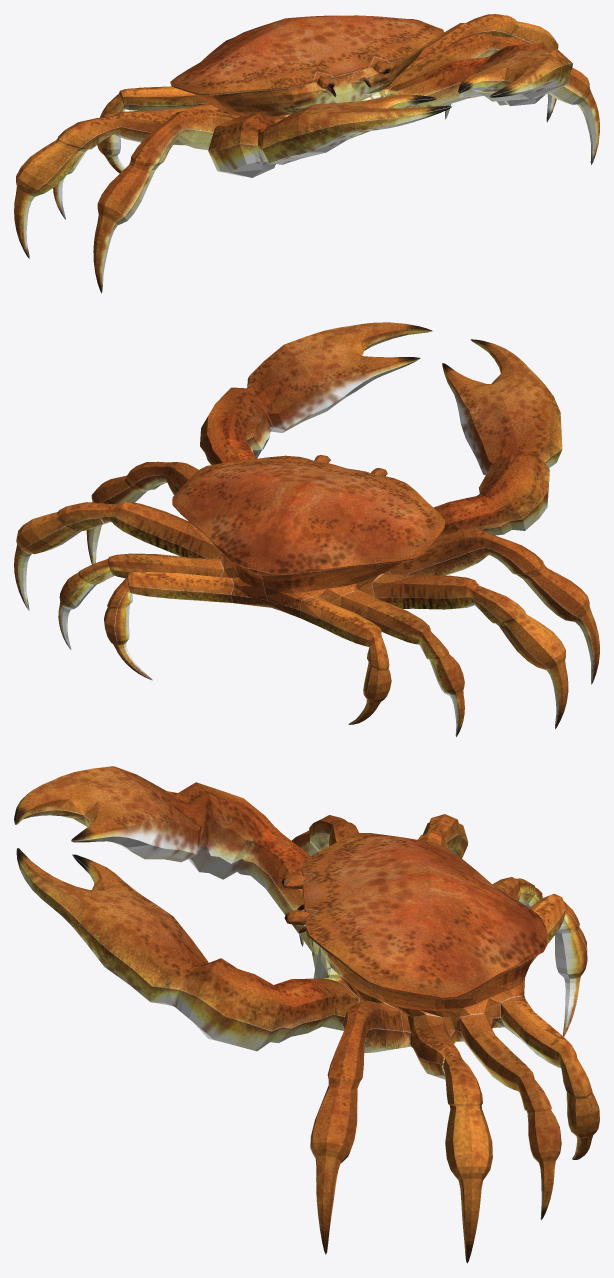
The model's file is Crab.obj.
3 views of the same model, one above another, from view 1: azimuth 30°, elevation 25°; view 2: azimuth 150°, elevation 25°; view 3: azimuth 270°, elevation 25° (orthographic). The views are drawn at different scales.
Visible parts, largest first — view 1: CrabBody:polySurface40polySurface37polySurface34polySurface31pol, CrabHandDer:polySurface41, CrabHandIzq:polySurface43, CrabPie_1_Der:polySurface29, CrabPie_2_Der:polySurface32, CrabPie_1_Izq:polySurface17, CrabPie_2_Izq:polySurface21, CrabPie_4_Der:polySurface39; view 2: CrabBody:polySurface40polySurface37polySurface34polySurface31pol, CrabHandDer:polySurface41, CrabHandIzq:polySurface43, CrabPie_2_Der:polySurface32, CrabPie_1_Der:polySurface29, CrabPie_2_Izq:polySurface21, CrabPie_1_Izq:polySurface17, CrabPie_3_Der:polySurface36, CrabPie_3_Izq:polySurface23, CrabPie_4_Izq:polySurface27, CrabPie_4_Der:polySurface39; view 3: CrabBody:polySurface40polySurface37polySurface34polySurface31pol, CrabHandIzq:polySurface43, CrabHandDer:polySurface41, CrabPie_1_Izq:polySurface17, CrabPie_2_Izq:polySurface21, CrabPie_3_Izq:polySurface23, CrabPie_4_Der:polySurface39, CrabPie_4_Izq:polySurface27, CrabPie_2_Der:polySurface32, CrabPie_1_Der:polySurface29.
Boxes of the visible parts, bbox=[...] form: CrabBody:polySurface40polySurface37polySurface34polySurface31pol: bbox=[100, 15, 494, 149]; CrabHandDer:polySurface41: bbox=[208, 94, 452, 177]; CrabHandIzq:polySurface43: bbox=[385, 43, 572, 108]; CrabPie_1_Der:polySurface29: bbox=[93, 119, 179, 293]; CrabPie_2_Der:polySurface32: bbox=[14, 116, 117, 258]; CrabPie_1_Izq:polySurface17: bbox=[492, 36, 599, 164]; CrabPie_2_Izq:polySurface21: bbox=[466, 14, 558, 122]; CrabPie_4_Der:polySurface39: bbox=[97, 134, 125, 173]; CrabBody:polySurface40polySurface37polySurface34polySurface31pol: bbox=[100, 455, 493, 670]; CrabHandDer:polySurface41: bbox=[433, 339, 562, 537]; CrabHandIzq:polySurface43: bbox=[200, 322, 432, 464]; CrabPie_2_Der:polySurface32: bbox=[472, 586, 568, 728]; CrabPie_1_Der:polySurface29: bbox=[490, 535, 599, 684]; CrabPie_2_Izq:polySurface21: bbox=[14, 502, 115, 610]; CrabPie_1_Izq:polySurface17: bbox=[86, 461, 168, 564]; CrabPie_3_Der:polySurface36: bbox=[419, 629, 464, 736]; CrabPie_3_Izq:polySurface23: bbox=[58, 559, 113, 649]; CrabPie_4_Izq:polySurface27: bbox=[104, 605, 152, 680]; CrabPie_4_Der:polySurface39: bbox=[348, 663, 391, 724]; CrabBody:polySurface40polySurface37polySurface34polySurface31pol: bbox=[282, 820, 592, 1103]; CrabHandIzq:polySurface43: bbox=[16, 848, 359, 1051]; CrabHandDer:polySurface41: bbox=[14, 766, 311, 950]; CrabPie_1_Izq:polySurface17: bbox=[310, 1021, 366, 1254]; CrabPie_2_Izq:polySurface21: bbox=[443, 1055, 492, 1263]; CrabPie_3_Izq:polySurface23: bbox=[518, 1076, 561, 1220]; CrabPie_4_Der:polySurface39: bbox=[554, 927, 587, 1036]; CrabPie_4_Izq:polySurface27: bbox=[566, 1091, 599, 1159]; CrabPie_2_Der:polySurface32: bbox=[423, 814, 468, 858]; CrabPie_1_Der:polySurface29: bbox=[291, 815, 347, 946].
Size of the model in its own units: 0.5927 by 0.223 by 0.429.
Materials: 11 (11 with a texture image).
